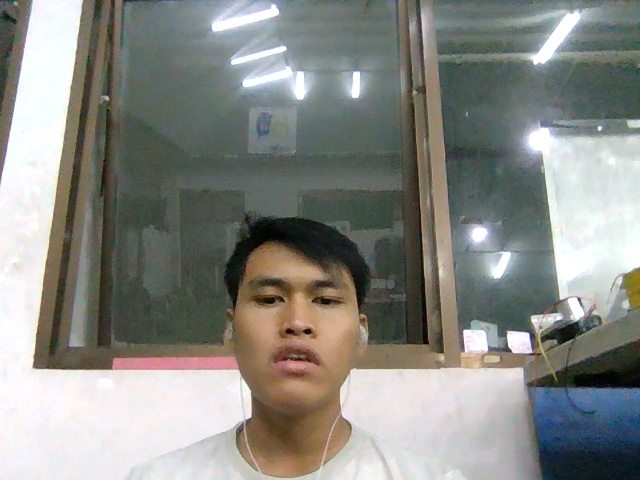mask_off: (229, 320, 359, 404)
